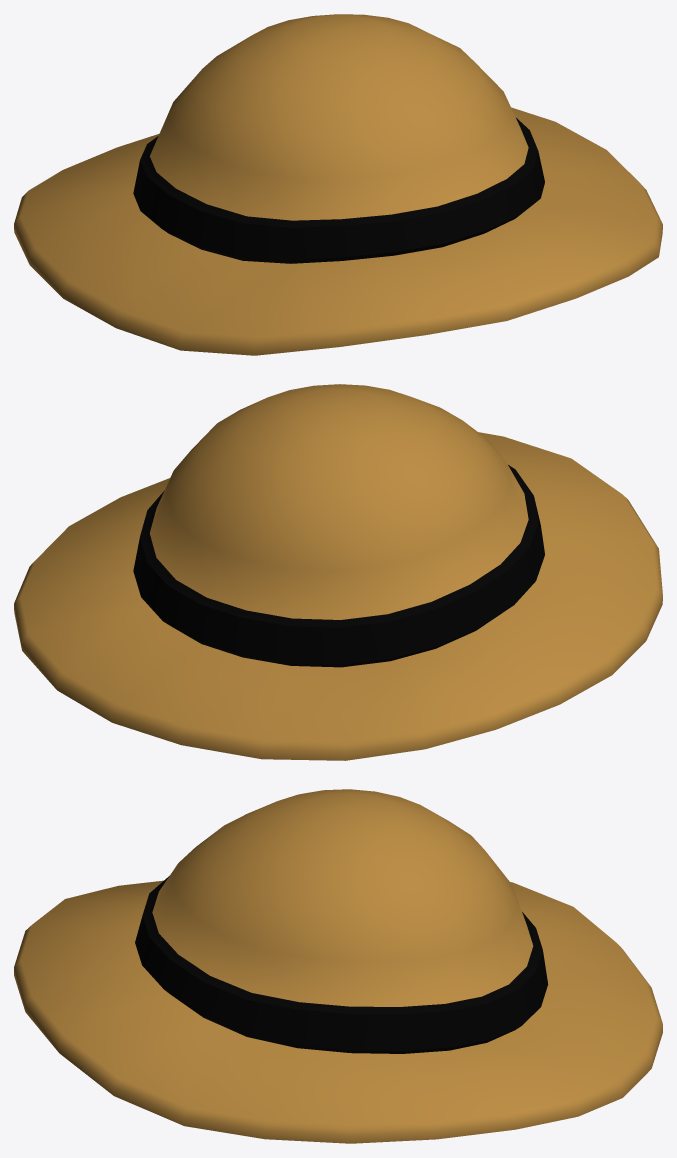
Rendered from Straw_hat.fbx.
The picture shows the model from 3 angles, top to bottom: view 1: azimuth 30°, elevation 25°; view 2: azimuth 150°, elevation 25°; view 3: azimuth 270°, elevation 25°; orthographic projection.
Visible parts, largest first — view 1: Straw_hat; view 2: Straw_hat; view 3: Straw_hat.
Boxes of the visible parts, x1=… form: Straw_hat: x1=14, y1=14, x2=662, y2=355; Straw_hat: x1=14, y1=384, x2=662, y2=760; Straw_hat: x1=14, y1=789, x2=662, y2=1143.
Bounding box in the file's own units: 1.17 × 0.4555 × 1.2.
